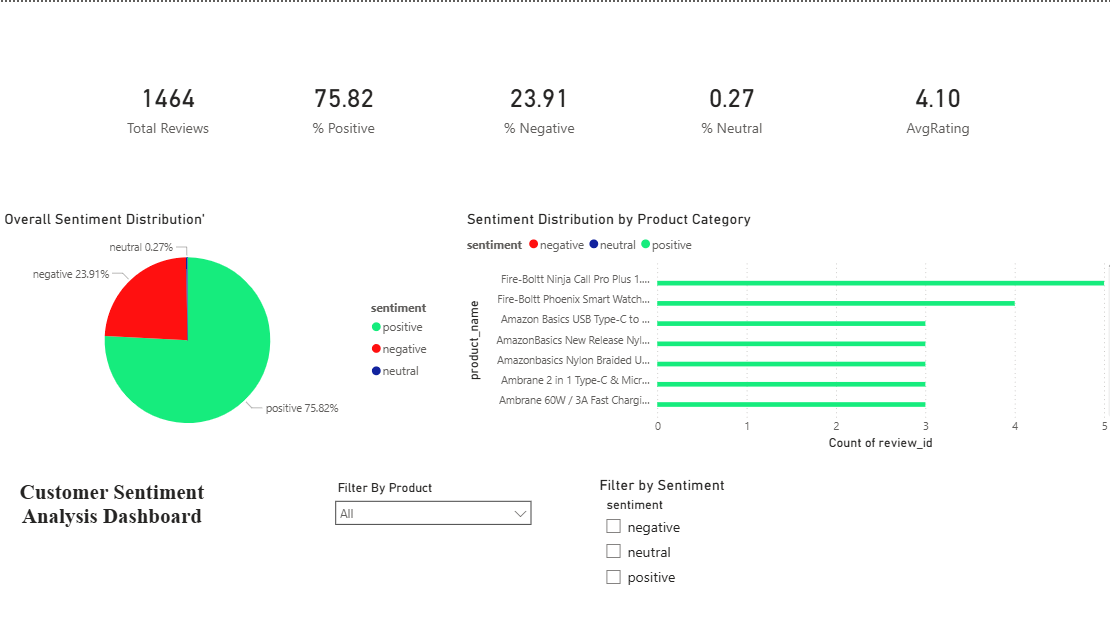

What the dashboard file says about the page in this screenshot:
{"tool":"powerbi","page":{"name":"Page 1","canvas":[1280,720],"ordinal":0},"visuals":[{"type":"pieChart","title":"Overall Sentiment Distribution''","fields":{"Category":["reviews.sentiment"],"Y":["CountNonNull(reviews.sentiment)"]},"box":[0,237.1,510,280],"z":0},{"type":"clusteredBarChart","title":"Sentiment Distribution by Product Category","fields":{"Category":["reviews.product_name"],"Series":["reviews.sentiment"],"Y":["CountNonNull(reviews.review_id)"]},"box":[528.6,237.1,751.4,280],"z":1000},{"type":"slicer","fields":{"Values":["reviews.product_name"]},"box":[372.9,541.4,244.3,178.6],"z":2000},{"type":"slicer","title":"Filter by Sentiment","fields":{"Values":["reviews.sentiment"]},"box":[680,541.4,237.1,178.6],"z":3000},{"type":"card","fields":{"Values":["reviews.% Negative"]},"box":[505.7,0,221.4,237.1],"z":4000},{"type":"card","fields":{"Values":["reviews.% Positive"]},"box":[280,0,225.7,237.1],"z":5000},{"type":"card","fields":{"Values":["reviews.% Neutral"]},"box":[727.1,0,218.6,237.1],"z":6000},{"type":"card","fields":{"Values":["reviews.AvgRating"]},"box":[945.7,0,252.9,237.1],"z":7000},{"type":"card","fields":{"Values":["reviews.Total Reviews"]},"box":[91.4,0,201.4,237.1],"z":7001},{"type":"textbox","box":[0,541.4,255.7,77.1],"z":7002}]}

Visuals, with their boxes in screenshot pixels (x1, y1, x2, y2), scaled from the page's 1280x720 canvas onto the 1110x628 screenshot:
"Overall Sentiment Distribution''" pieChart: <region>0, 207, 442, 451</region>
"Sentiment Distribution by Product Category" clusteredBarChart: <region>458, 207, 1109, 451</region>
slicer - reviews.product_name: <region>323, 472, 535, 627</region>
"Filter by Sentiment" slicer: <region>590, 472, 795, 627</region>
card - reviews.% Negative: <region>439, 0, 631, 207</region>
card - reviews.% Positive: <region>243, 0, 439, 207</region>
card - reviews.% Neutral: <region>631, 0, 820, 207</region>
card - reviews.AvgRating: <region>820, 0, 1039, 207</region>
card - reviews.Total Reviews: <region>79, 0, 254, 207</region>
textbox: <region>0, 472, 222, 539</region>
